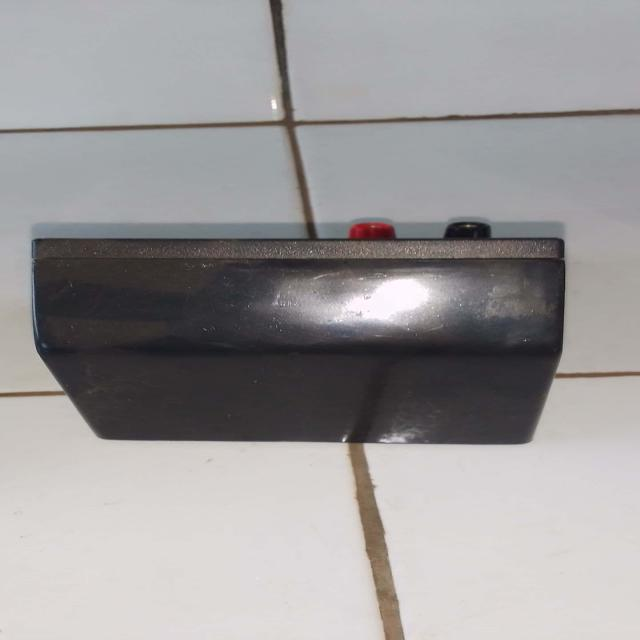Digital Voltmeter 0-20V: (15, 211, 604, 472)
